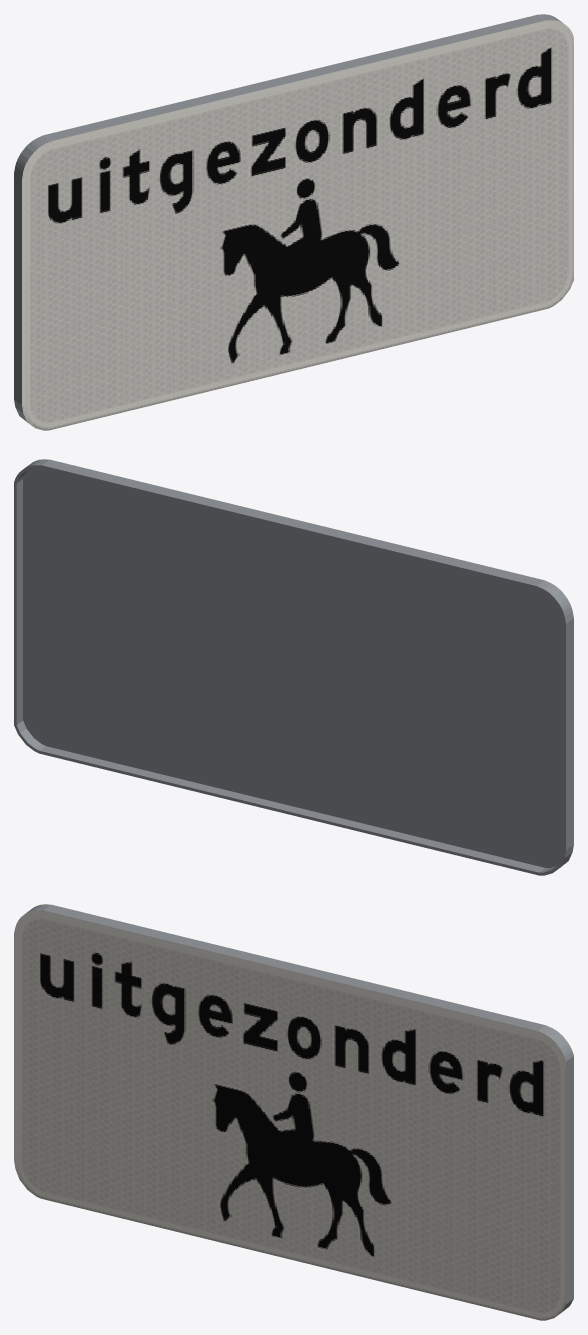
3 views of the same model, one above another, from view 1: azimuth 30°, elevation 25°; view 2: azimuth 150°, elevation 25°; view 3: azimuth 330°, elevation 25° (orthographic).
Visible parts, largest first — view 1: cat_b1db3143d7735968; view 2: cat_b1db3143d7735968; view 3: cat_b1db3143d7735968.
Boxes of the visible parts, left/top/right/bottom form: cat_b1db3143d7735968: left=14, top=14, right=573, bottom=430; cat_b1db3143d7735968: left=14, top=459, right=573, bottom=875; cat_b1db3143d7735968: left=14, top=904, right=573, bottom=1320.
Size of the model in its own units: 0.6 by 0.015 by 0.3.
2 materials, 1 textured.
